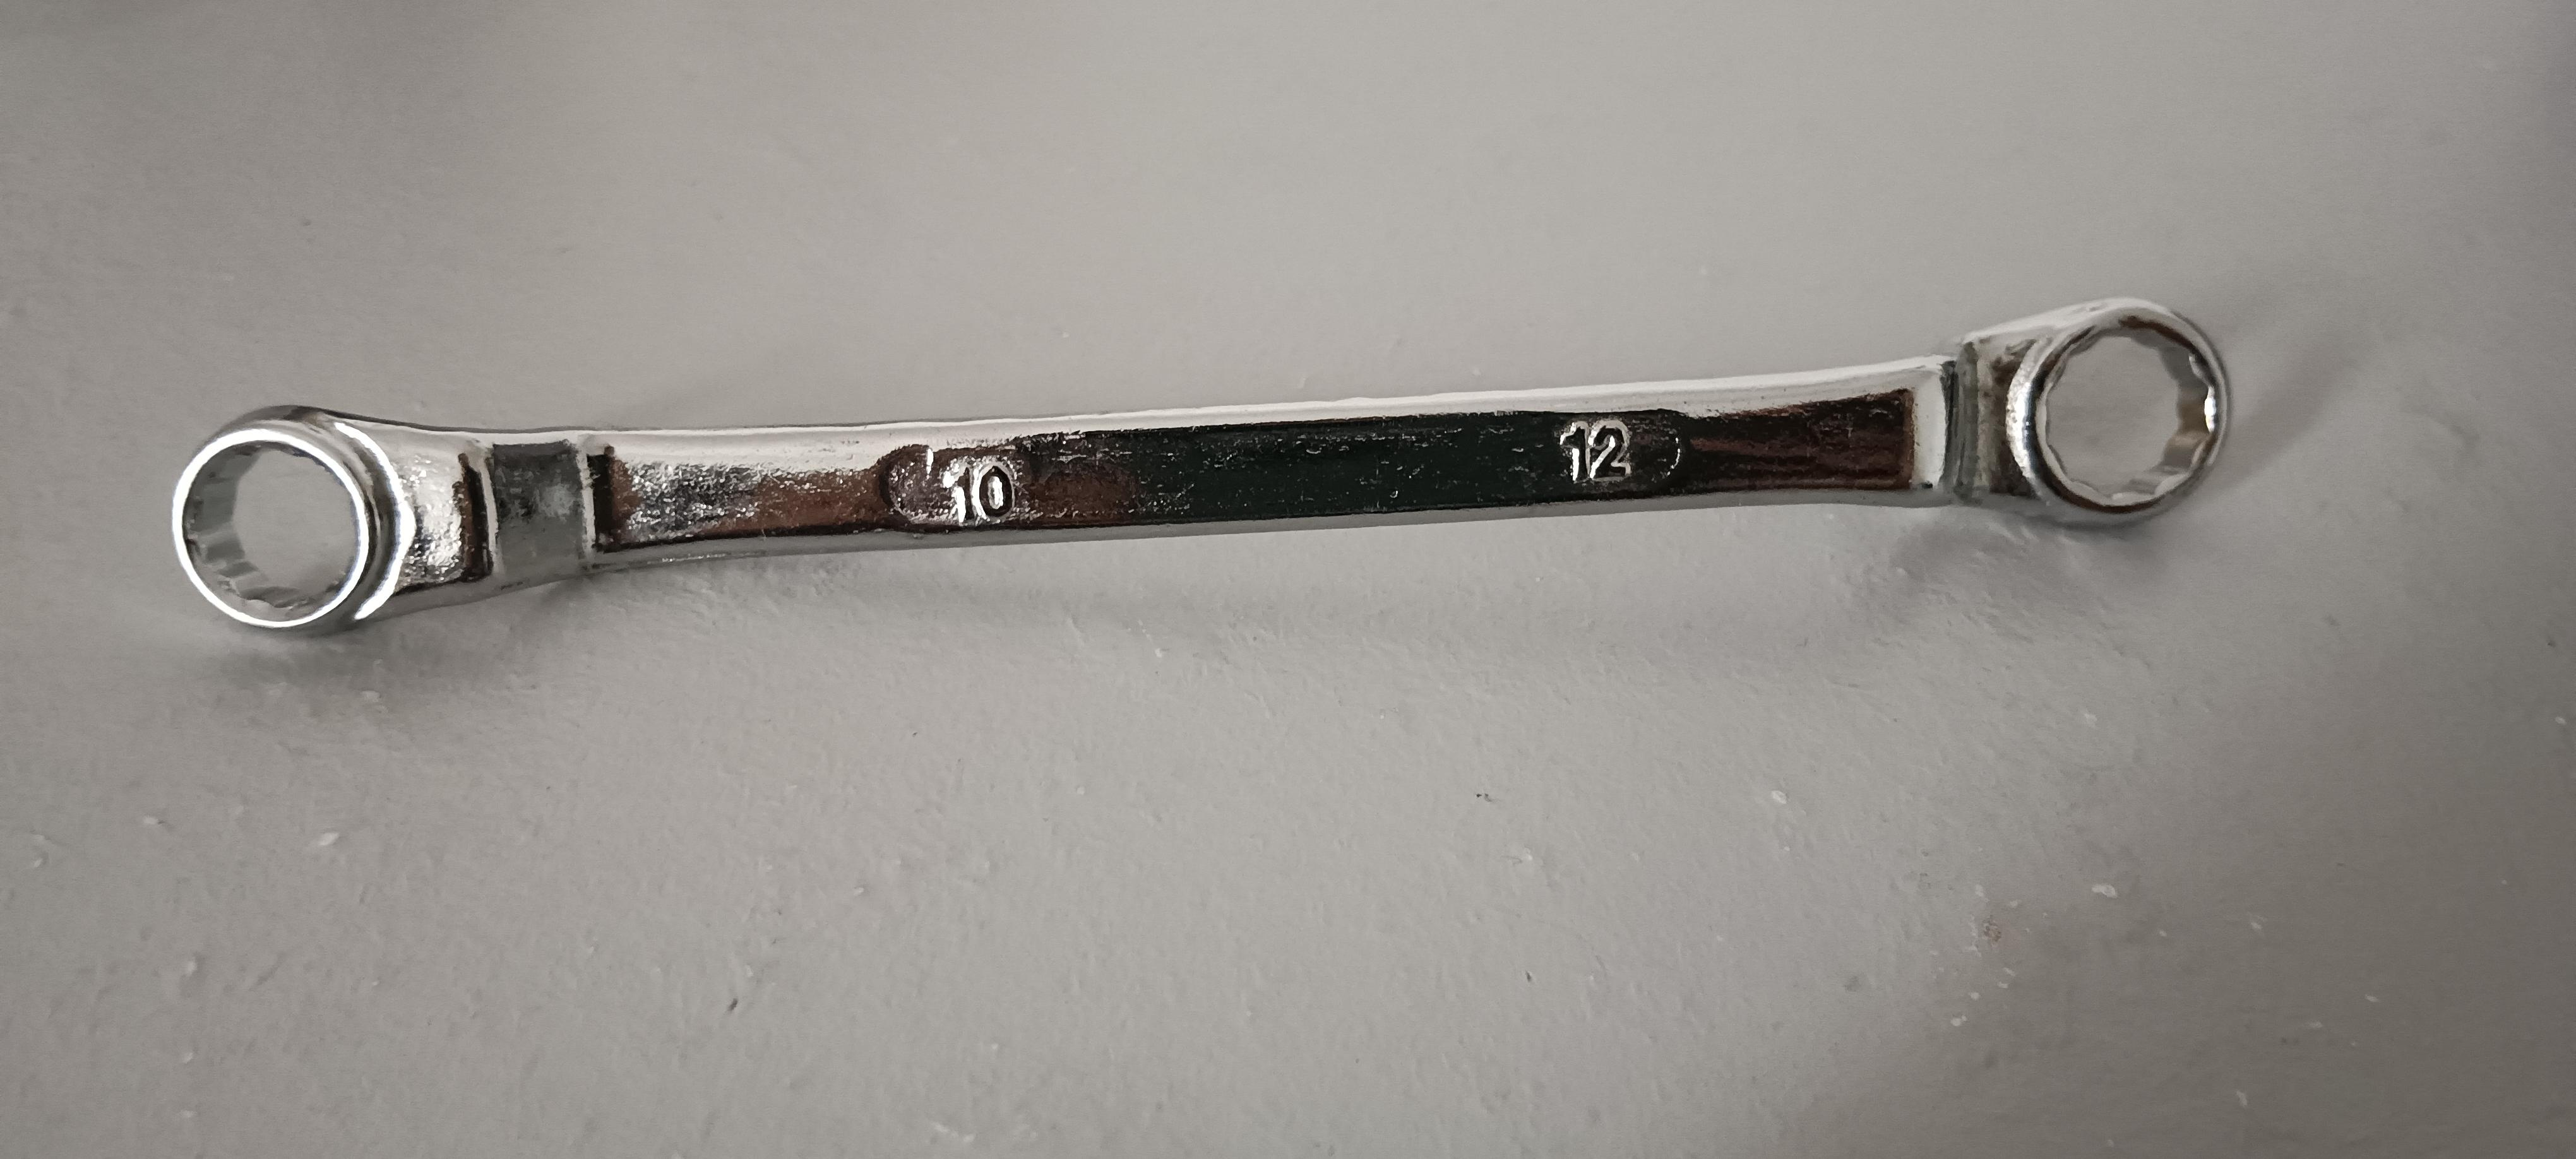Spanners: (122, 277, 2305, 670)
